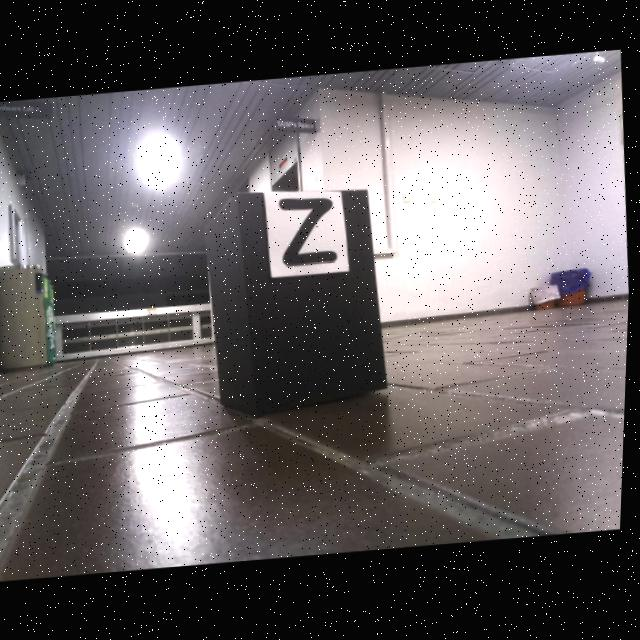Z: (281, 200, 338, 266)
